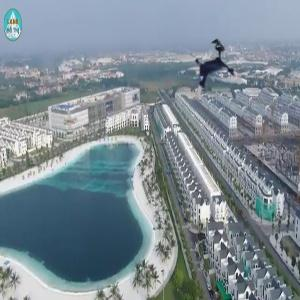drone: (186, 49, 240, 103)
